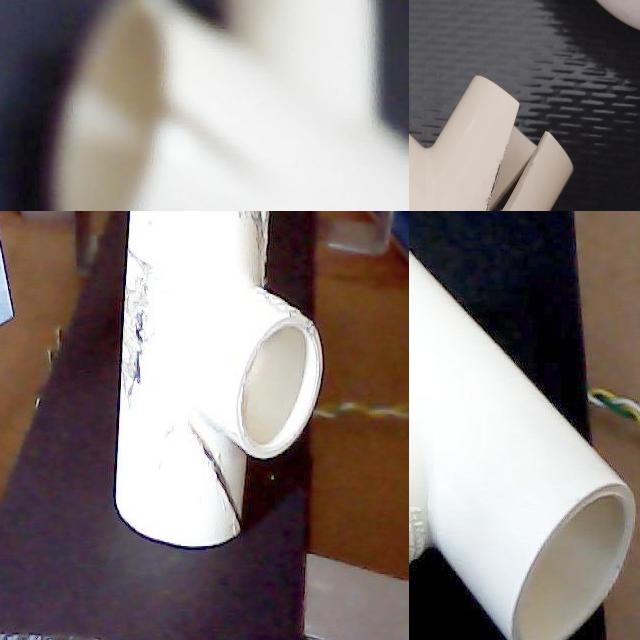Defective: (140, 92, 271, 211), (183, 386, 250, 545), (120, 224, 146, 430), (236, 211, 279, 304)
T Joint: (409, 249, 637, 640), (114, 211, 323, 550)
